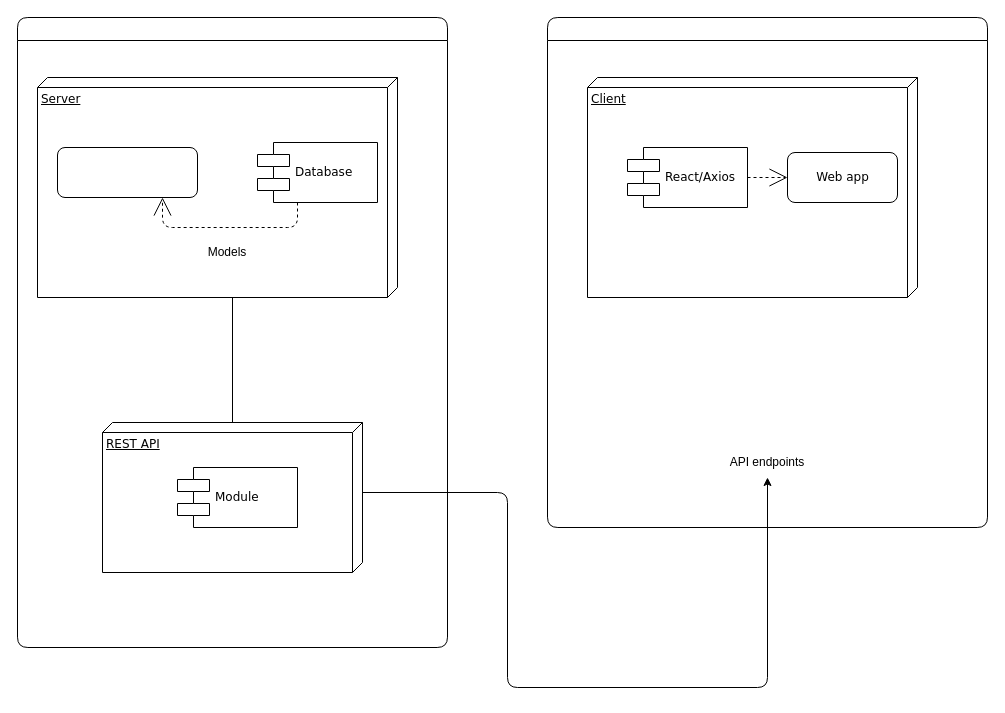
The diagram is 1005 pixels wide and 713 high, and some of its shapes have lost their labels. The box of each missing label's shape, as (x1, y1, x2, y2) in pixels:
Backend: (16, 16, 448, 648)
Django views/routers: (56, 146, 198, 198)
Frontend: (546, 16, 988, 528)
